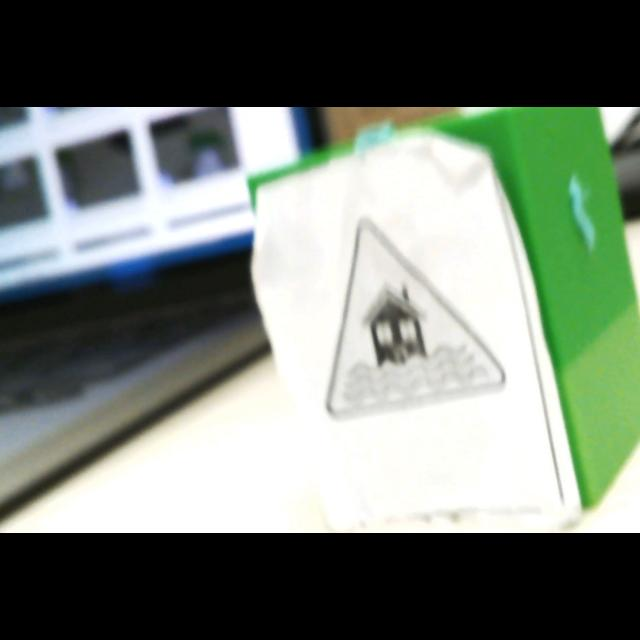Tsunami: (326, 217, 505, 416)
